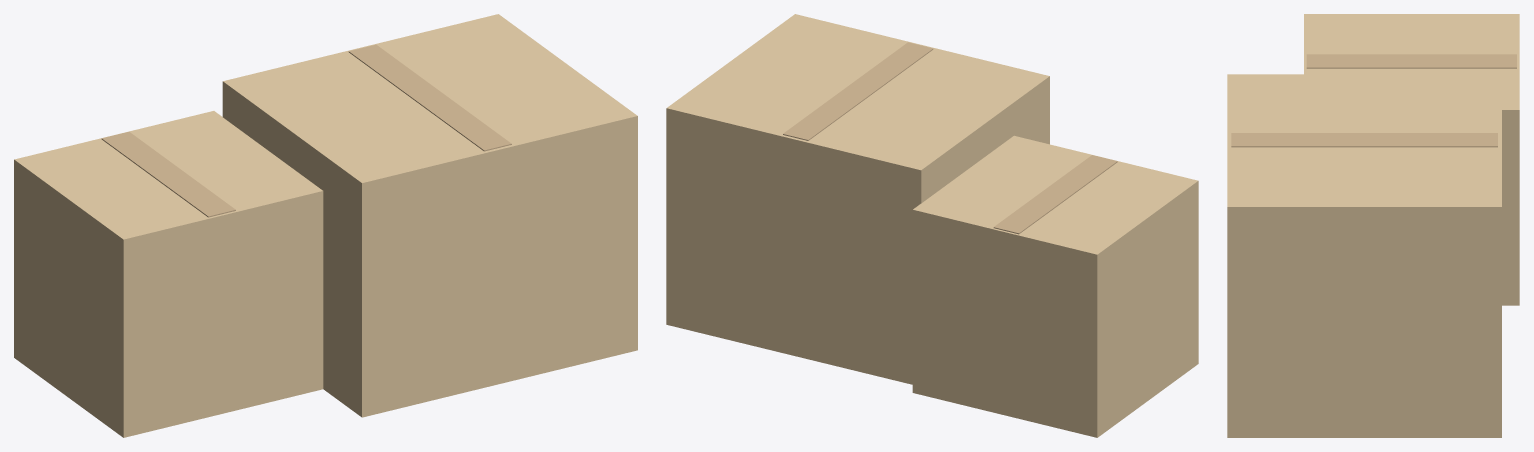
The model's file is 02_cardboard_boxes_6.glb.
3 renders of one model, left to right at view 1: azimuth 30°, elevation 25°; view 2: azimuth 150°, elevation 25°; view 3: azimuth 270°, elevation 25°, orthographic. The views are drawn at different scales.
Parts seen in each view (by area): view 1: part_1, part_3, part_2, part_4; view 2: part_1, part_3, part_2, part_4; view 3: part_1, part_3, part_2, part_4.
Part boxes in pixels (x1,y1,x2,y2): part_1: [222, 14, 637, 417]; part_3: [14, 111, 323, 437]; part_2: [348, 44, 511, 151]; part_4: [101, 131, 235, 217]; part_1: [666, 14, 1049, 384]; part_3: [912, 135, 1198, 437]; part_2: [783, 42, 933, 140]; part_4: [993, 155, 1117, 234]; part_1: [1227, 74, 1501, 437]; part_3: [1304, 14, 1519, 305]; part_2: [1231, 133, 1497, 147]; part_4: [1306, 54, 1516, 68].
Bounding box in the file's own units: 1.38 × 0.6529 × 0.745.
